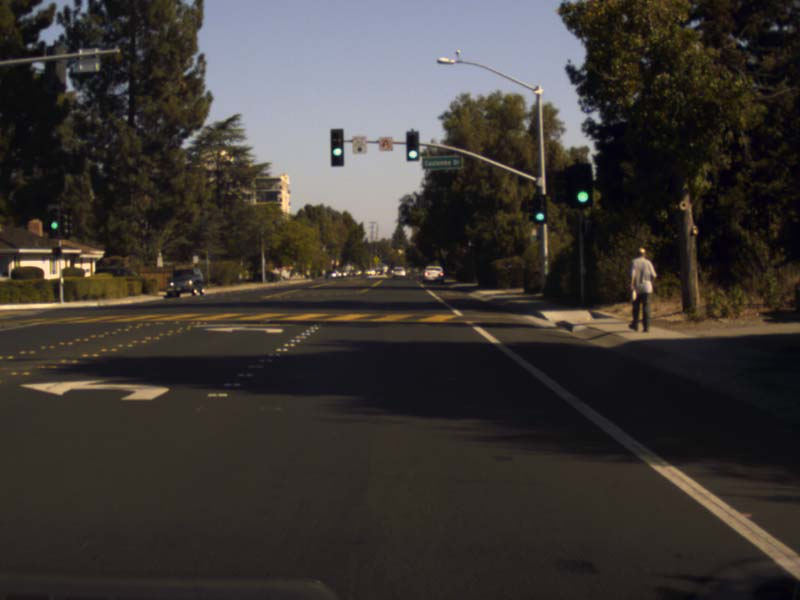Green: (572, 164, 590, 206), (330, 129, 343, 165), (47, 204, 60, 238), (532, 195, 546, 222), (406, 131, 418, 160)
